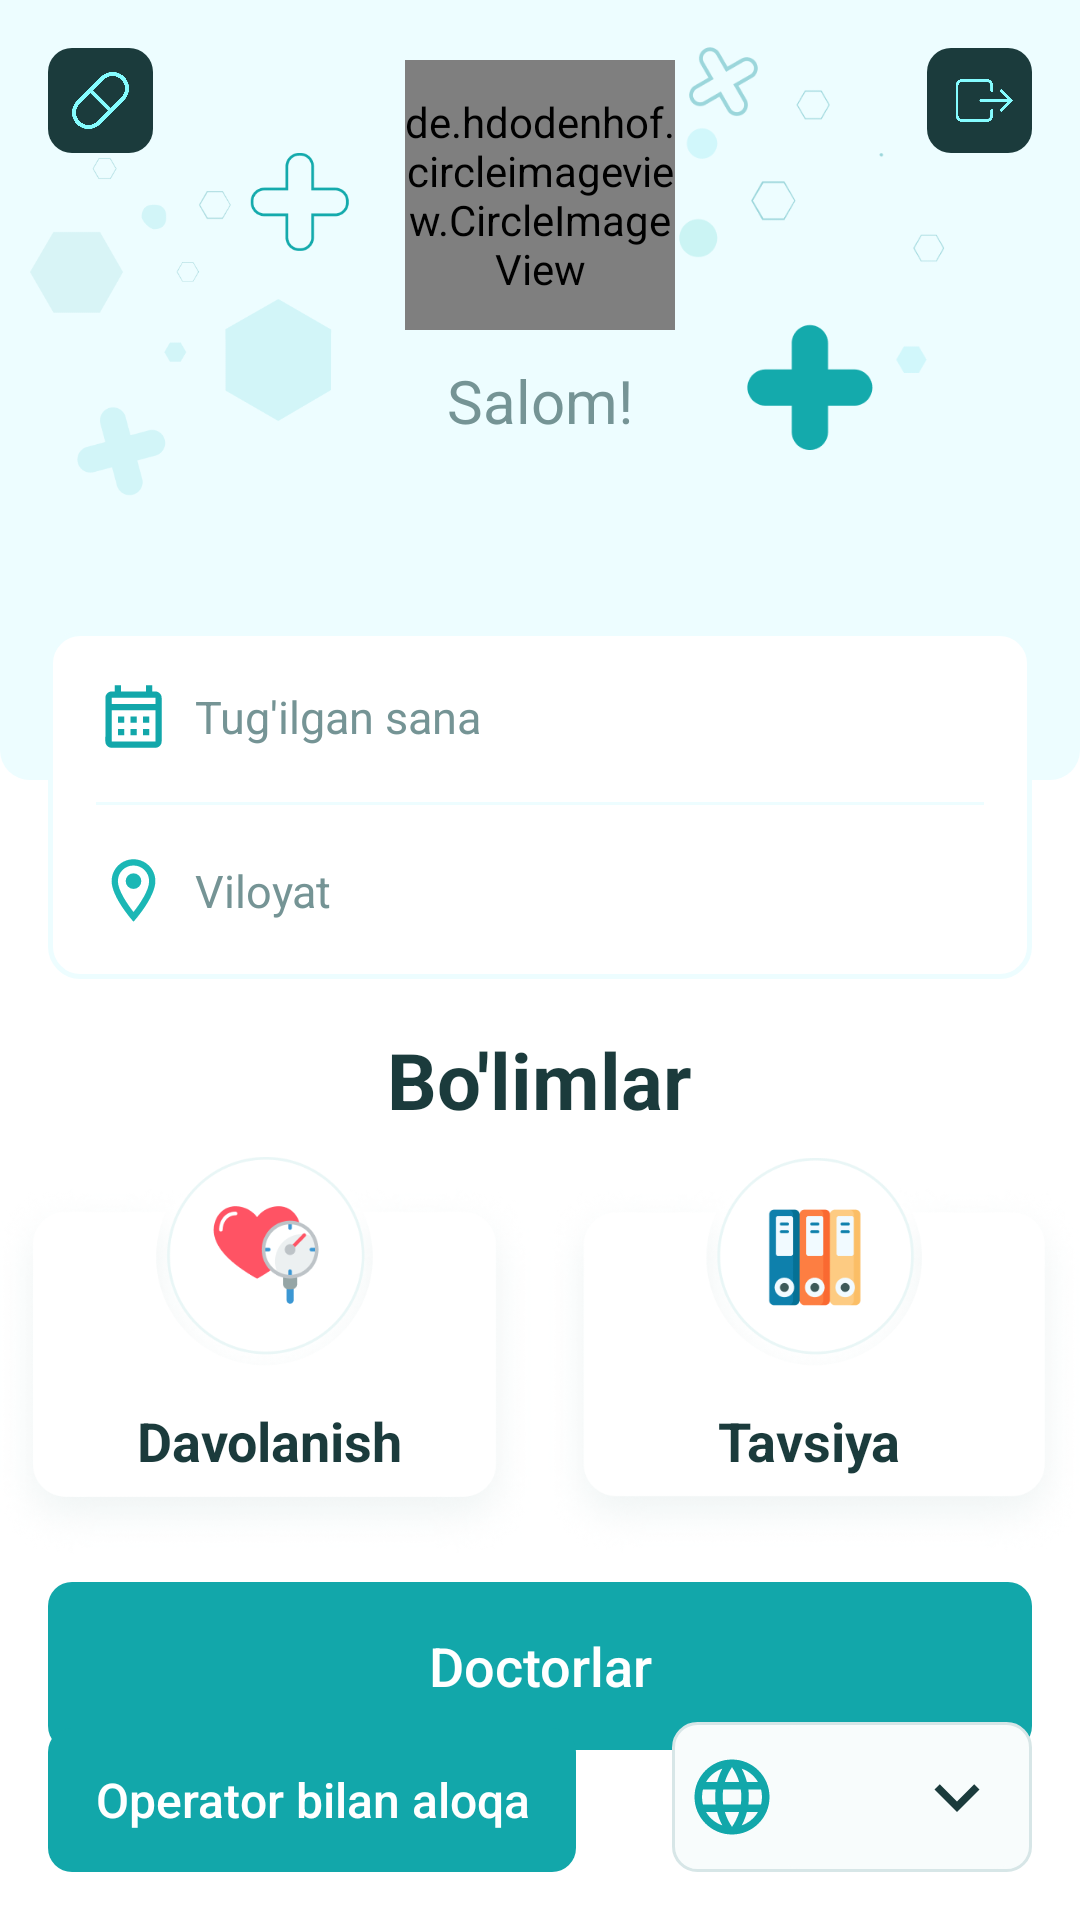

Where icons sit on this 1080px×1920px app screen, as (x1, y1, x2, y2):
calendar month: (105, 685, 162, 748)
language: (694, 1759, 770, 1835)
location: (111, 859, 156, 922)
